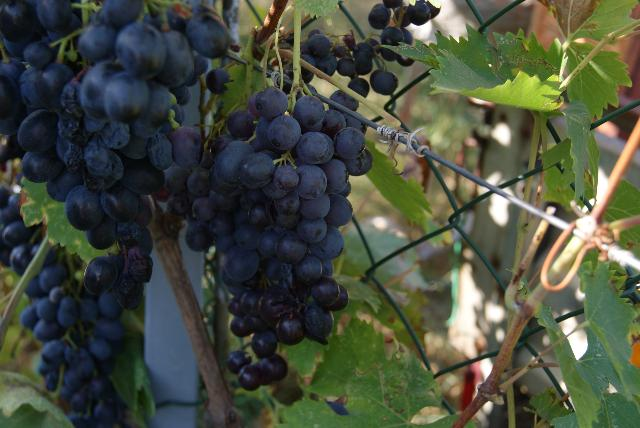grapes: (0, 0, 230, 300), (165, 86, 366, 390), (20, 249, 126, 428)
